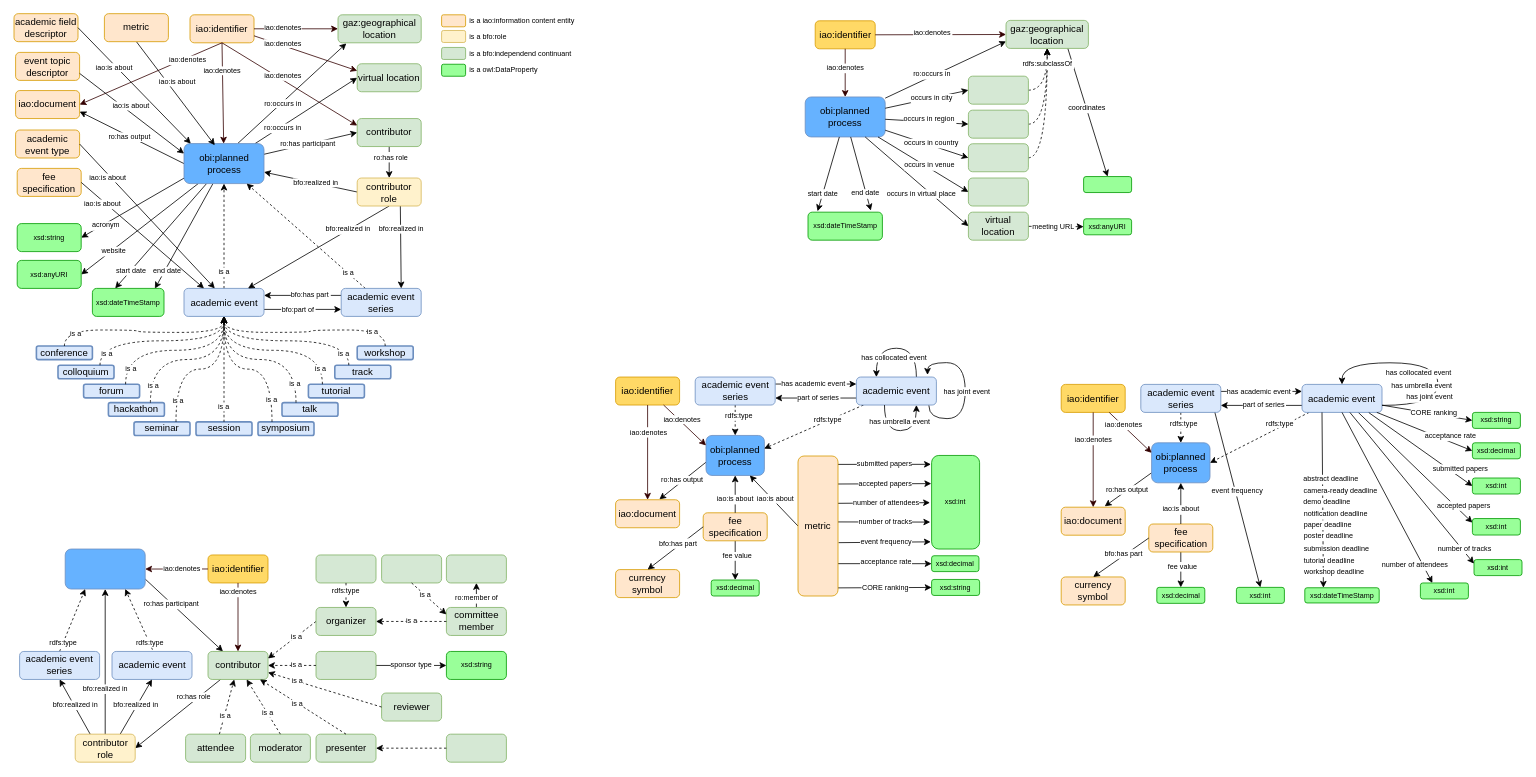
Image size: 1536x777. Some labels were removed from this diagram. The shapes that lost their labels are listed below. From the top down, each one's centre as x and y in pixels, then its label:
(x=998, y=89): city
(x=998, y=123): region
(x=998, y=157): country
(x=998, y=191): venue
(x=1107, y=184): rdfs:Literal
(x=104, y=568): planned process
(x=345, y=568): contact person
(x=411, y=568): committee chair
(x=476, y=568): committee
(x=345, y=665): sponsor
(x=476, y=747): keynote speaker
